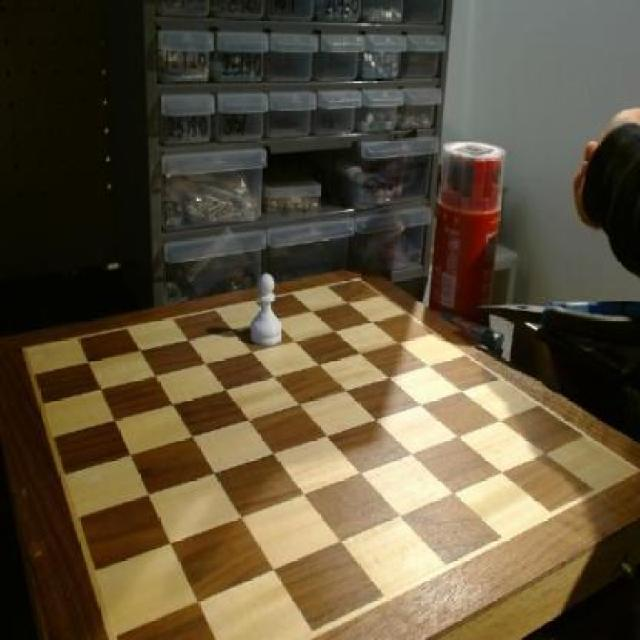white-knight: (248, 269, 286, 350)
